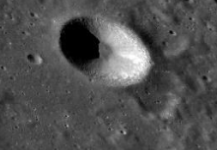crater: (54, 8, 159, 102)
